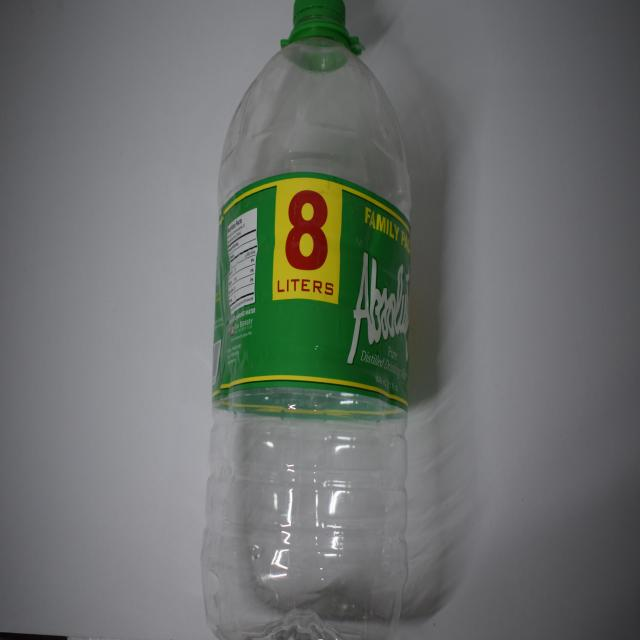plastic: (198, 0, 416, 640)
